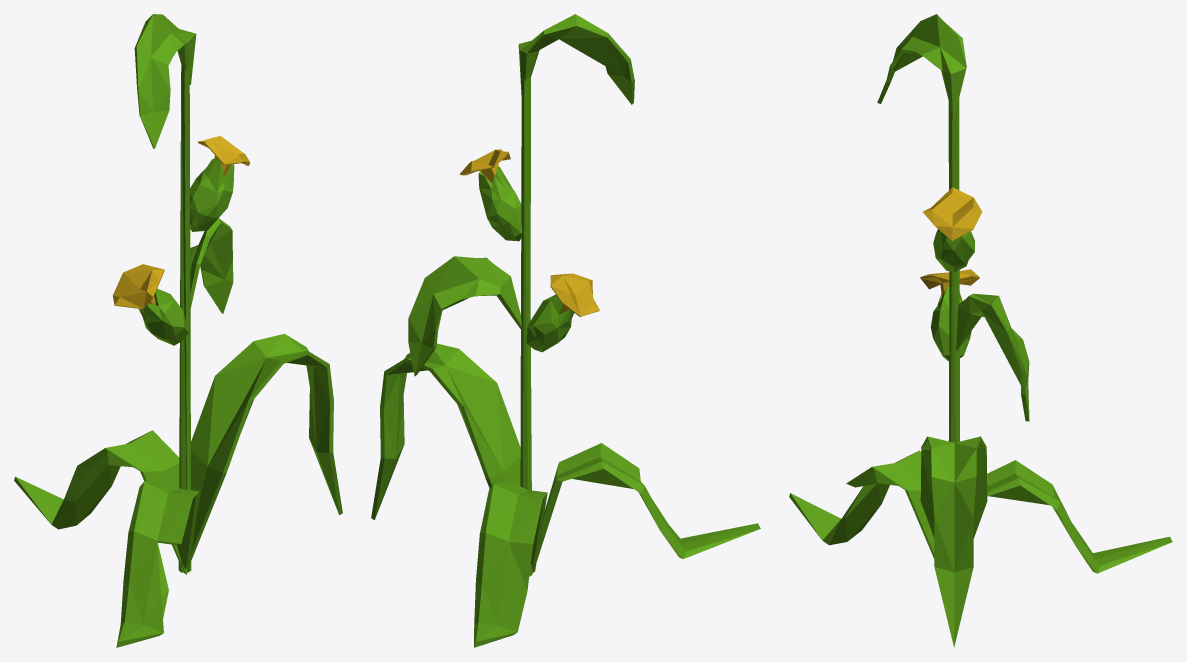
The model's file is 010 Corn_Plant_2.FBX.
3 renders of one model, left to right at view 1: azimuth 30°, elevation 25°; view 2: azimuth 150°, elevation 25°; view 3: azimuth 270°, elevation 25°, orthographic. The views are drawn at different scales.
Parts seen in each view (by area): view 1: corn4180; view 2: corn4180; view 3: corn4180.
Part boxes in pixels (x1,y1,x2,y2): corn4180: [14, 14, 342, 647]; corn4180: [371, 14, 760, 647]; corn4180: [789, 14, 1172, 647].
Size of the model in its own units: 42.59 by 74.93 by 46.68.
